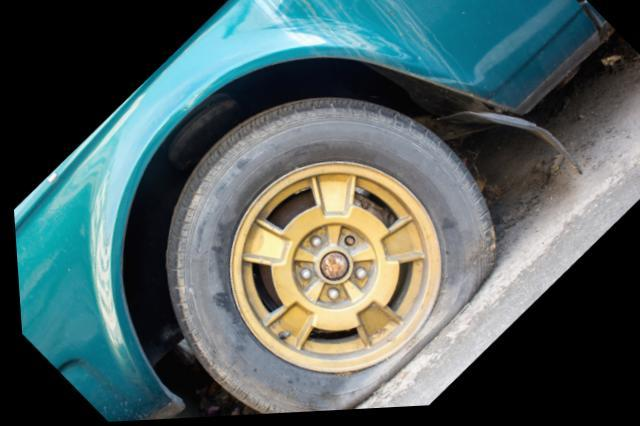tire flat: (159, 100, 494, 416)
